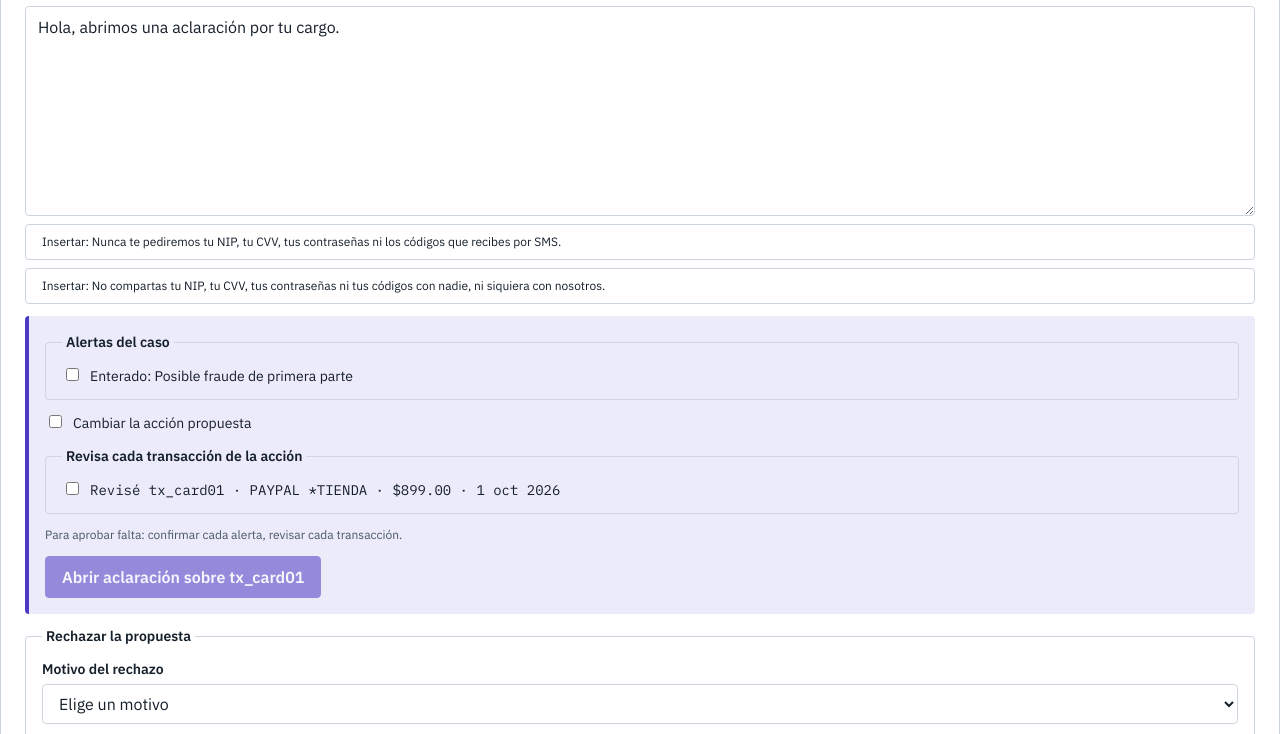
Test: decision panel (02 G3) › offers for each action only the transactions it allows, and at least its minimum
(page scrolled)
Check: the button "Abrir aclaración sobre tx_card01" is shown, box 45,556 -> 321,598
Click the checkbox labelled "Enterado: Posible fraude de primera parte" at coordinates (72, 374), box 66,368 -> 79,381
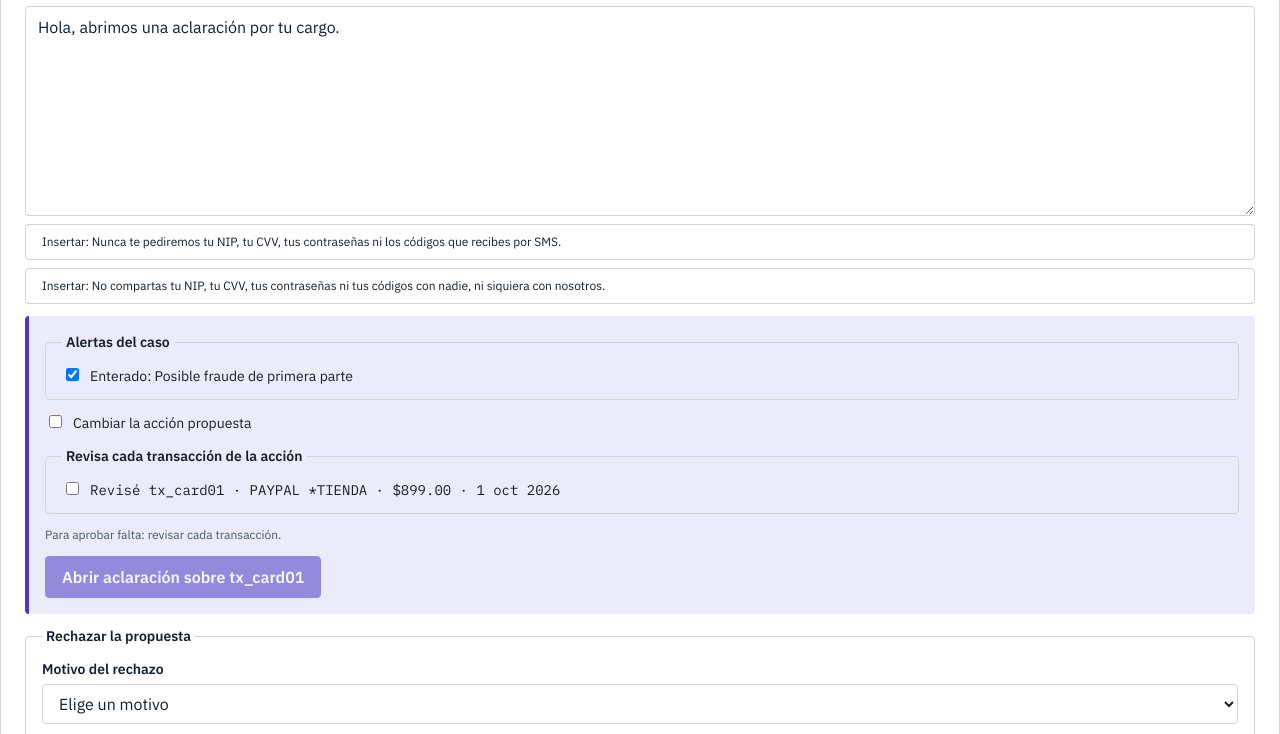
Click the checkbox labelled "Cambiar la acción propuesta" at coordinates (56, 422), box 49,415 -> 62,428
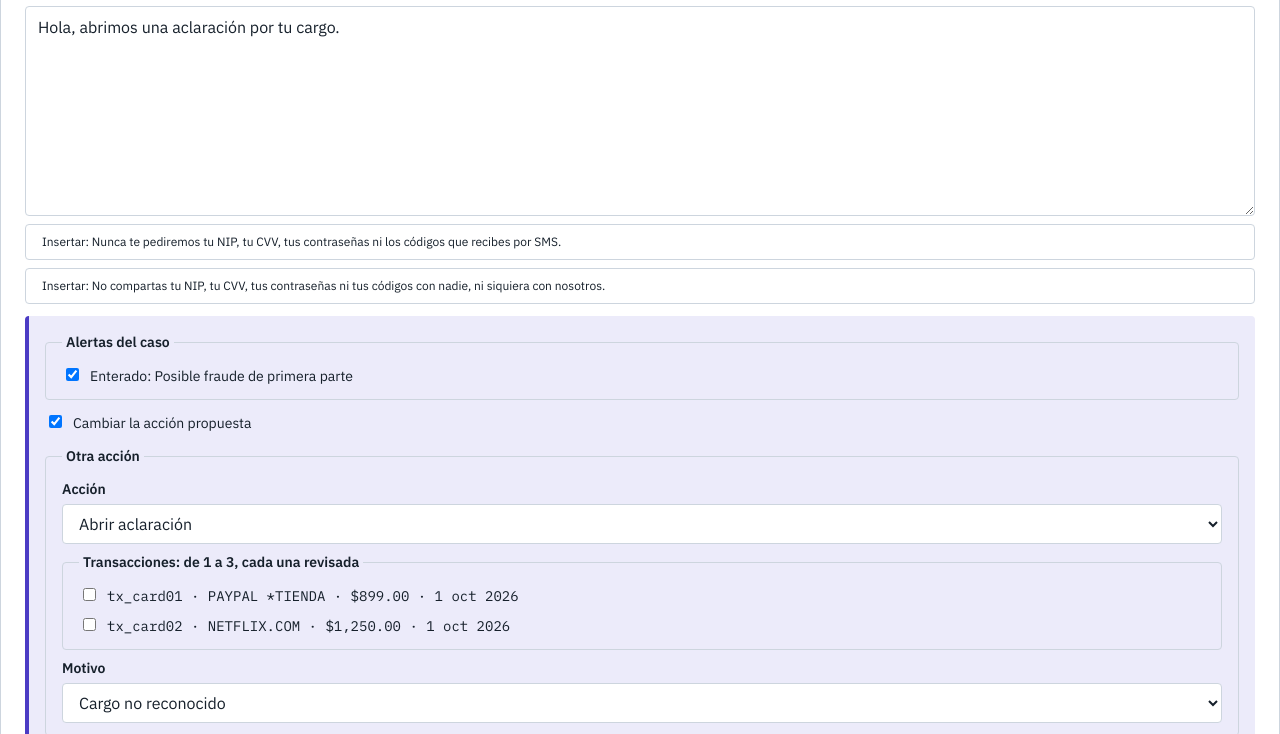
Select "Reenviar comprobante (CEP)" in the dropdown labelled "Acción" at coordinates (642, 524), box 62,504 -> 1222,544
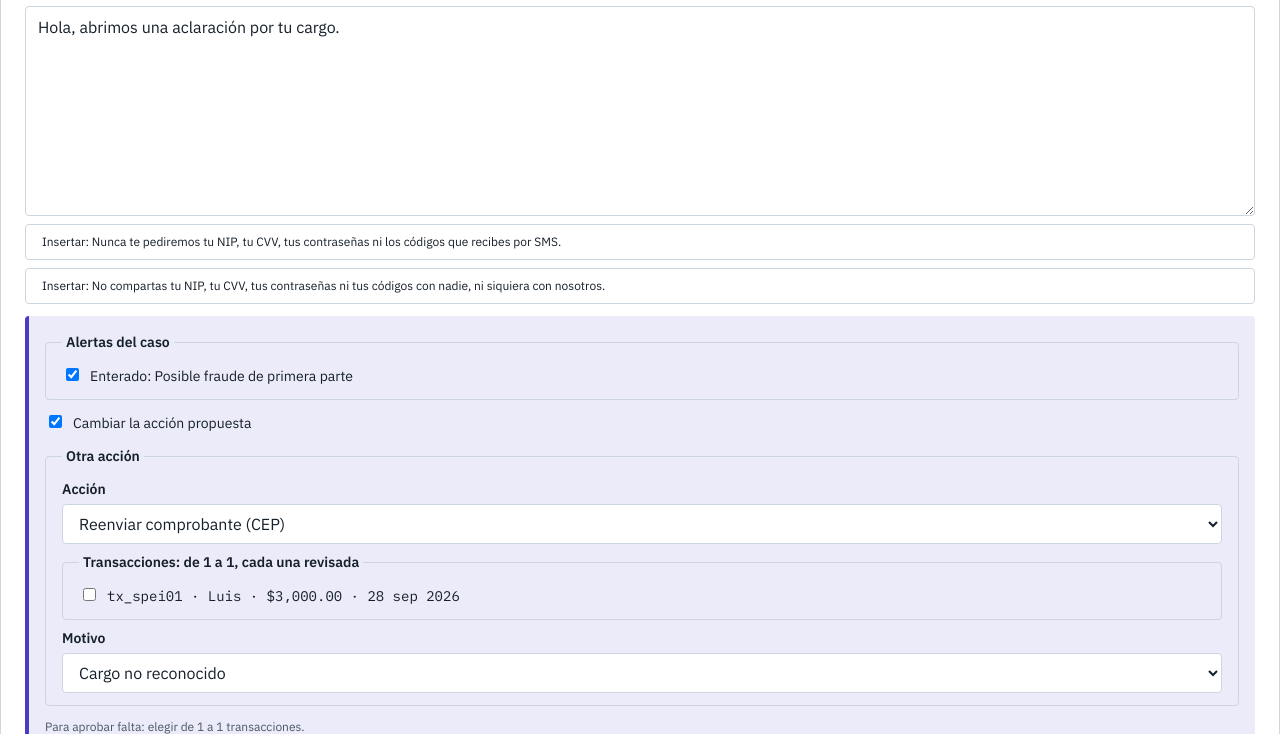
Check: the checkbox labelled "tx_spei01 · Luis · $3,000.00 · 28 sep 2026" is shown, box 83,588 -> 96,601
Check: the label "tx_card01" is gone
Select "Abrir aclaración" in the dropdown labelled "Acción" at coordinates (642, 524), box 62,504 -> 1222,544
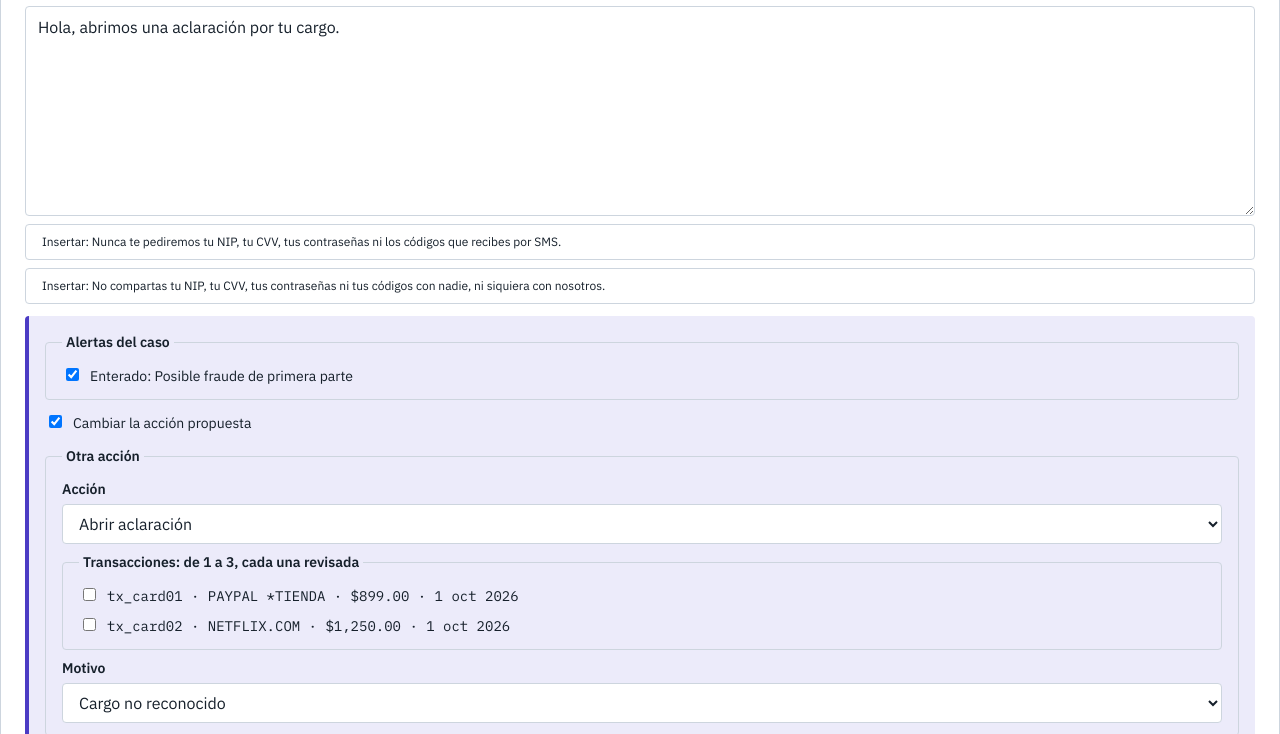
Check: the label "tx_spei01" is gone
Click the checkbox labelled "tx_card02 · NETFLIX.COM · $1,250.00 · 1 oct 2026" at coordinates (90, 624), box 83,618 -> 96,631
(page scrolled)
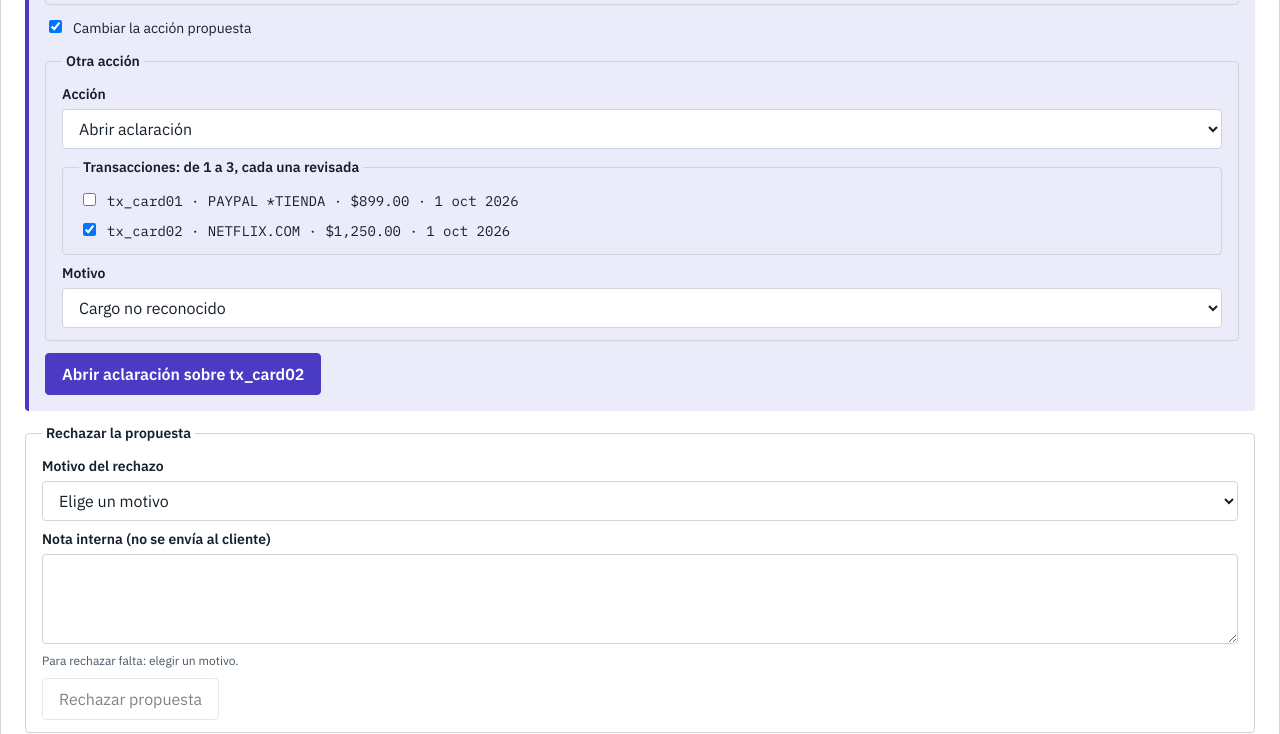
Check: the button "Abrir aclaración sobre tx_card02" is enabled, box 45,353 -> 321,395
